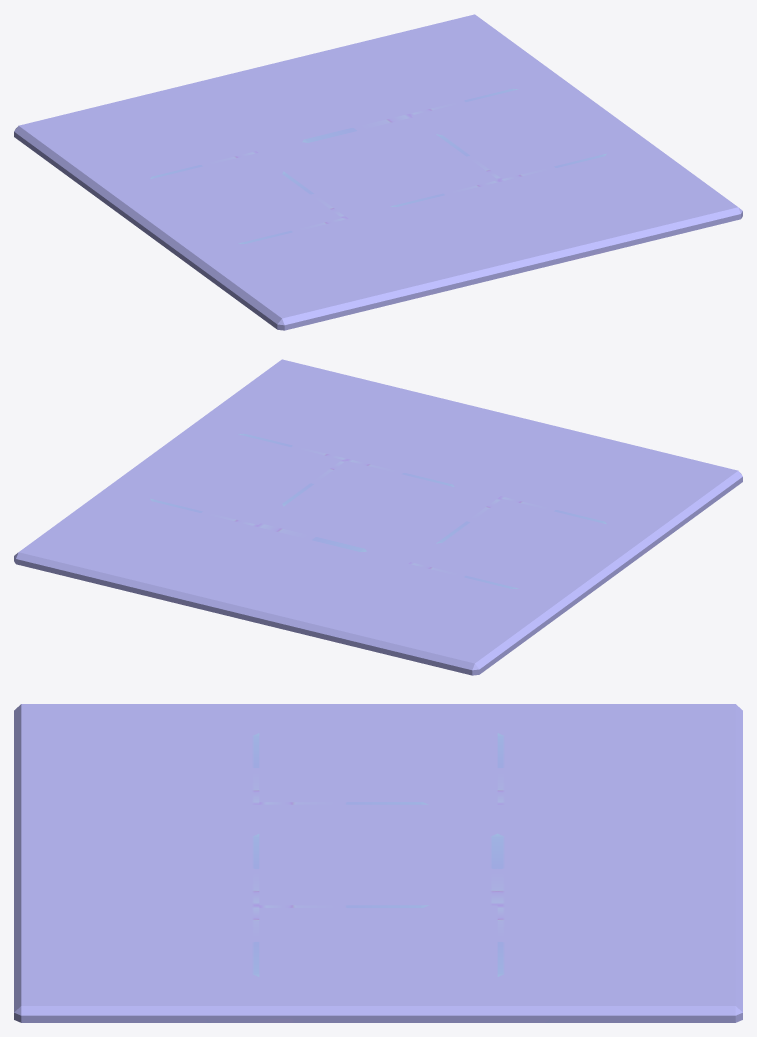
The model's file is Starport_bottom.fbx.
3 renders of one model, top to bottom at view 1: azimuth 30°, elevation 25°; view 2: azimuth 150°, elevation 25°; view 3: azimuth 270°, elevation 25°, orthographic. The views are drawn at different scales.
Parts seen in each view (by area): view 1: Starport_bottom; view 2: Starport_bottom; view 3: Starport_bottom.
Part boxes in pixels (x1,y1,x2,y2): Starport_bottom: (14, 14, 742, 330); Starport_bottom: (14, 359, 742, 675); Starport_bottom: (14, 704, 742, 1022).
Size of the model in its own units: 600 by 12.5 by 600.
